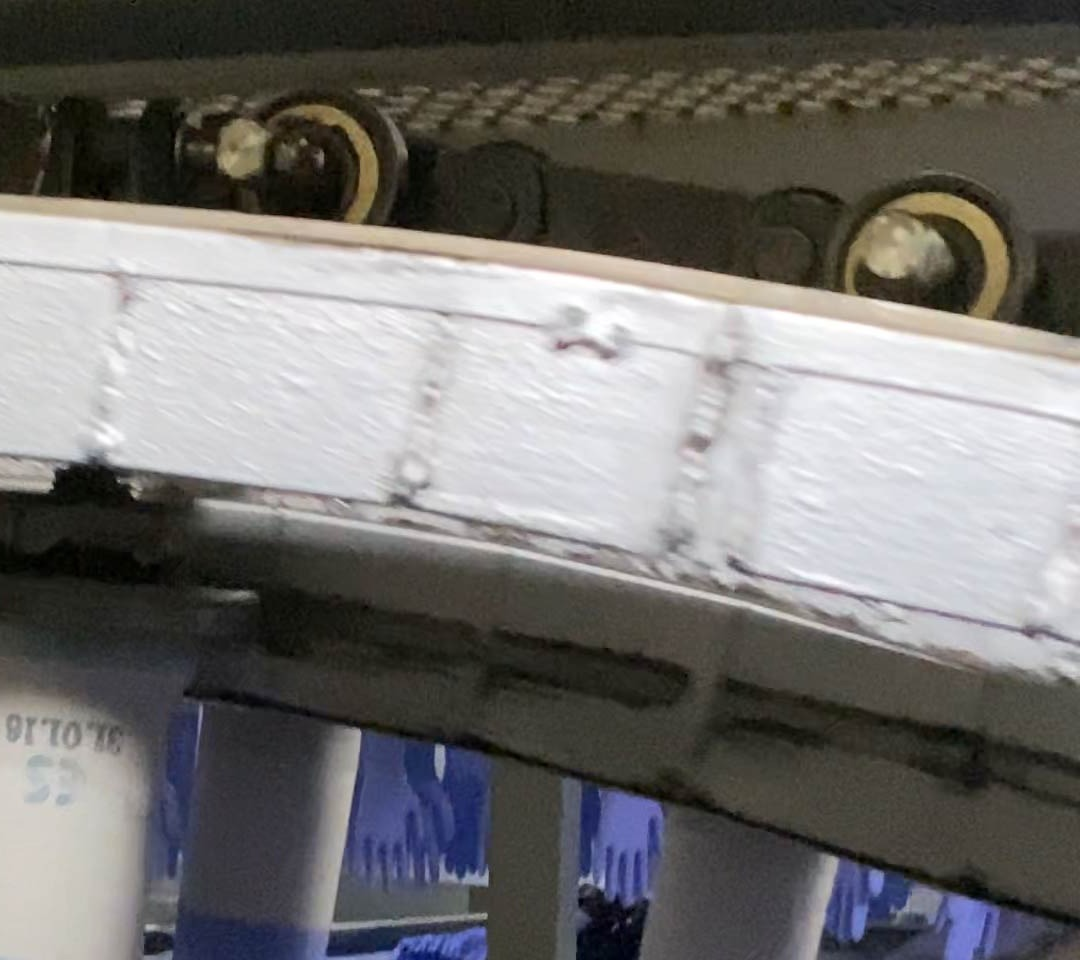glove: (353, 724, 427, 889), (590, 785, 665, 910)
